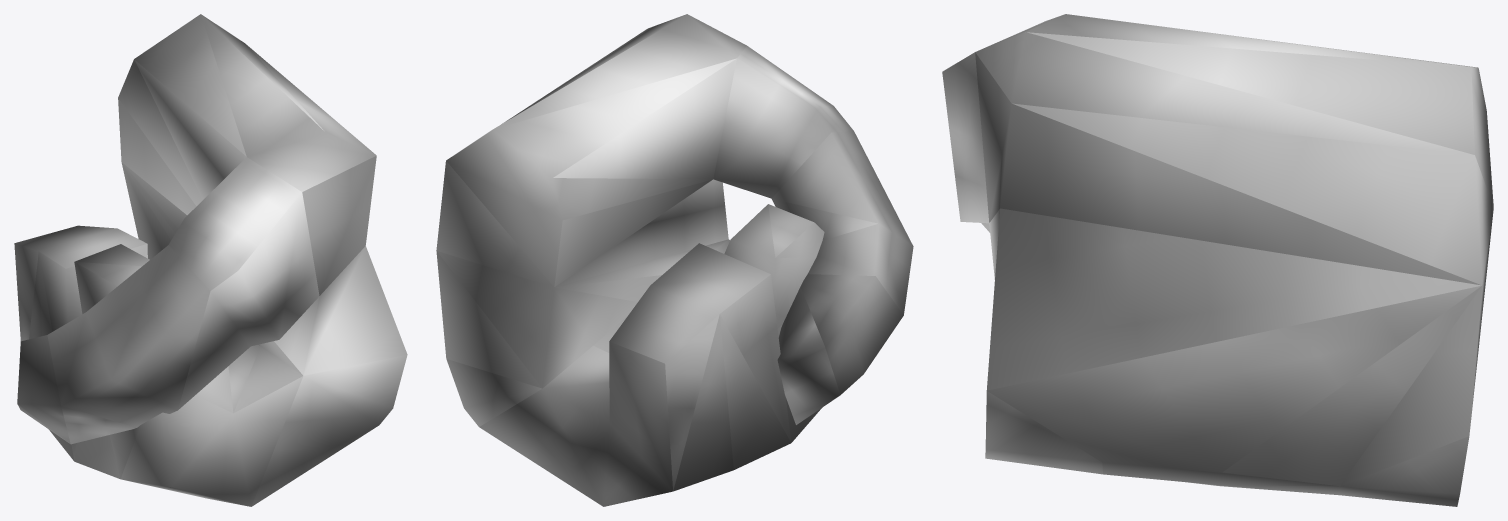
Rendered from l_hand.glb.
3 views of the same model, side by side, from view 1: azimuth 30°, elevation 25°; view 2: azimuth 150°, elevation 25°; view 3: azimuth 270°, elevation 25° (orthographic). The views are drawn at different scales.
Parts seen in each view (by area): view 1: l_hand; view 2: l_hand; view 3: l_hand.
Part boxes in pixels (<box>): l_hand: <box>14,14,407,506</box>; l_hand: <box>436,14,913,506</box>; l_hand: <box>942,14,1493,506</box>.
Size of the model in its own units: 0.7209 by 0.7771 by 0.7506.
Materials: 2 (2 with a texture image).
